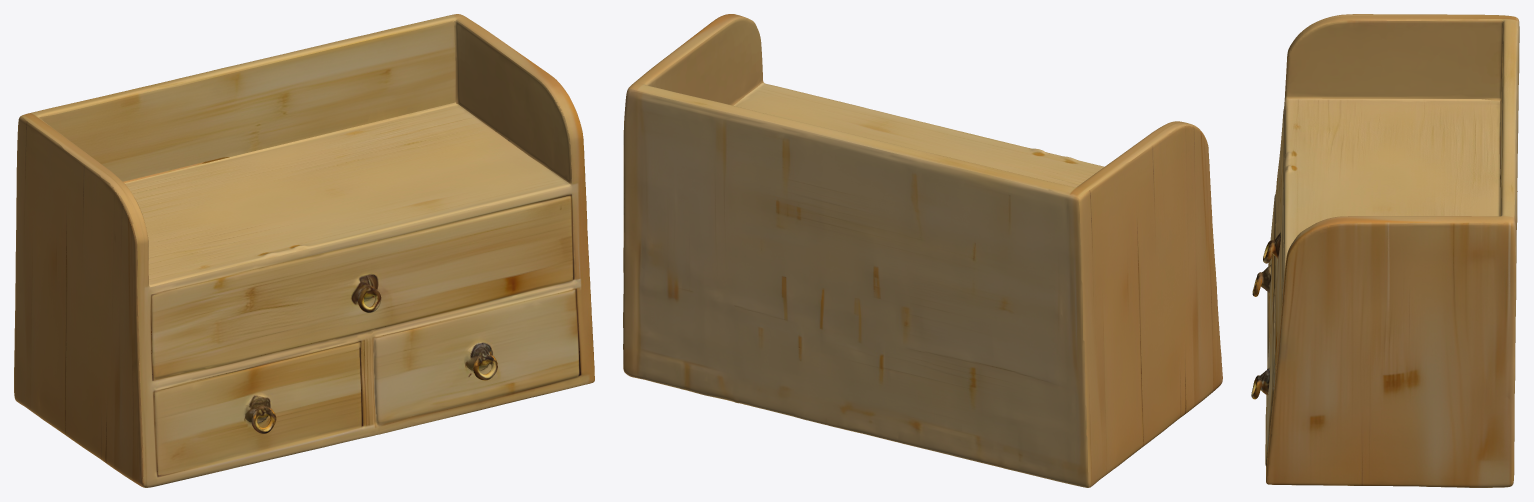
Rendered from bamboo_cabinet.glb.
3 renders of one model, left to right at view 1: azimuth 30°, elevation 25°; view 2: azimuth 150°, elevation 25°; view 3: azimuth 270°, elevation 25°, orthographic. The views are drawn at different scales.
Parts seen in each view (by area): view 1: textured_mesh; view 2: textured_mesh; view 3: textured_mesh.
Boxes of the visible parts, x1=… form: textured_mesh: x1=14, y1=14, x2=594, y2=487; textured_mesh: x1=623, y1=14, x2=1222, y2=487; textured_mesh: x1=1251, y1=14, x2=1519, y2=487.
Bounding box in the file's own units: 1.99 × 1.2 × 1.08.
Materials: 1 (1 with a texture image).
